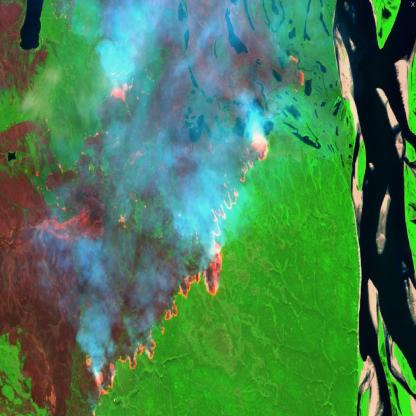fire: (36, 2, 306, 416)
